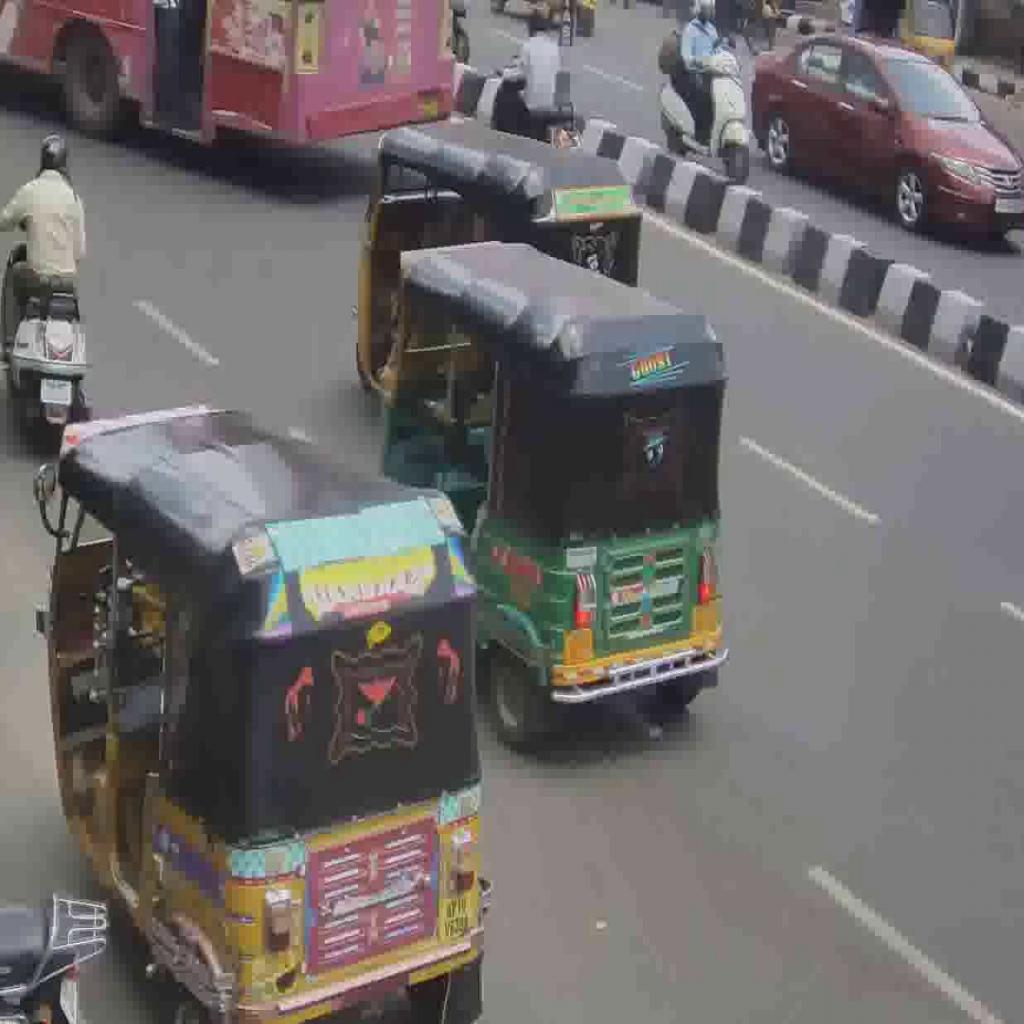helmet: (0, 212, 86, 446)
